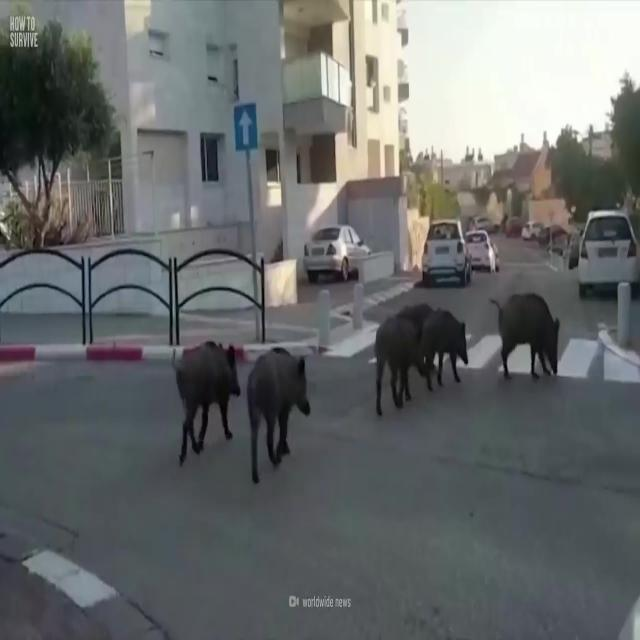pig: (245, 335, 321, 501), (179, 313, 245, 468), (485, 288, 578, 390), (360, 300, 422, 428), (426, 303, 471, 396)
